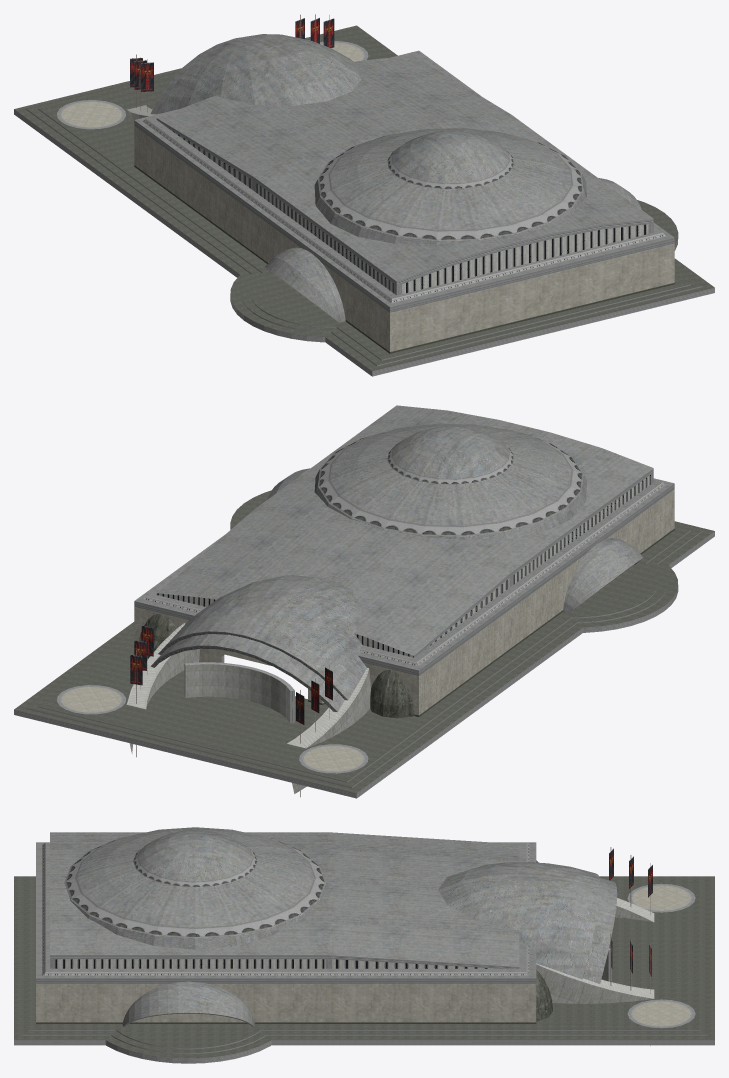
The model's file is mun_corl_guild_theater_s01_r0_mesh_l0.fbx.
3 renders of one model, top to bottom at view 1: azimuth 30°, elevation 25°; view 2: azimuth 150°, elevation 25°; view 3: azimuth 270°, elevation 25°, orthographic. The views are drawn at different scales.
Visible parts, largest first — view 1: mesh_node; view 2: mesh_node; view 3: mesh_node.
Part boxes in pixels (bbox=[...]): mesh_node: bbox=[14, 14, 714, 376]; mesh_node: bbox=[14, 405, 714, 798]; mesh_node: bbox=[14, 827, 714, 1063].
Bounding box in the file's own units: 82.18 × 32.27 × 121.
